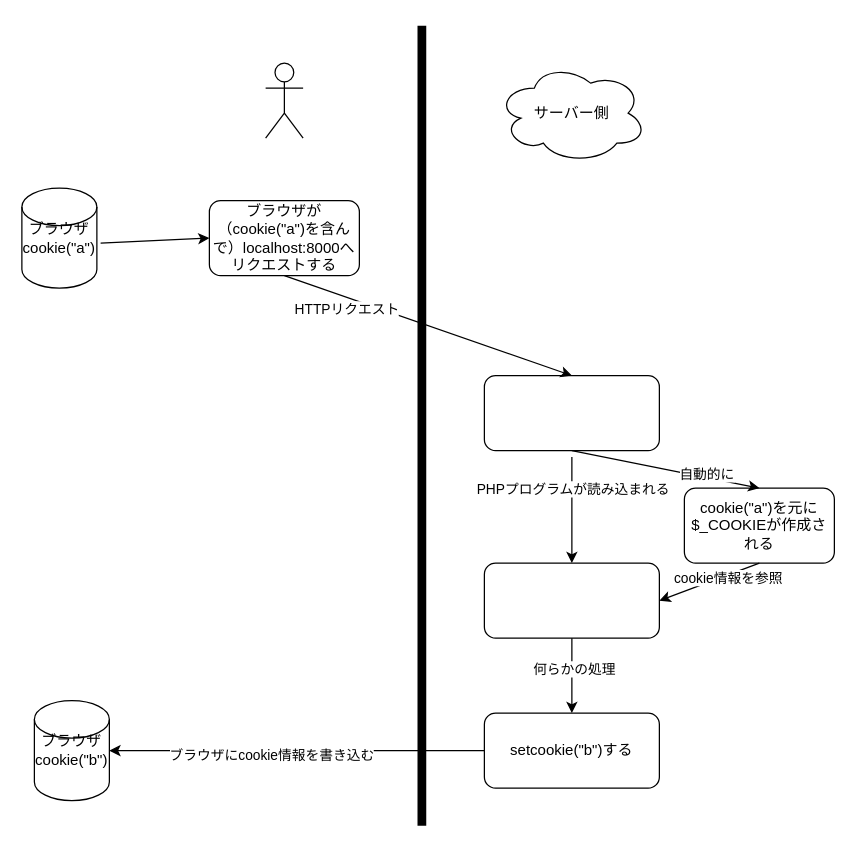
Some shapes in this 856 by 853 pixel diagram are drawn without their labels. Each missing label, with the centre of its shape:
サーバーでPHPが起動する: point (571, 412)
ブラウザを使う人側: point (283, 100)
例 echo $_COOKIE["a"] $_COOKIE("a")が参照できる: point (571, 600)
